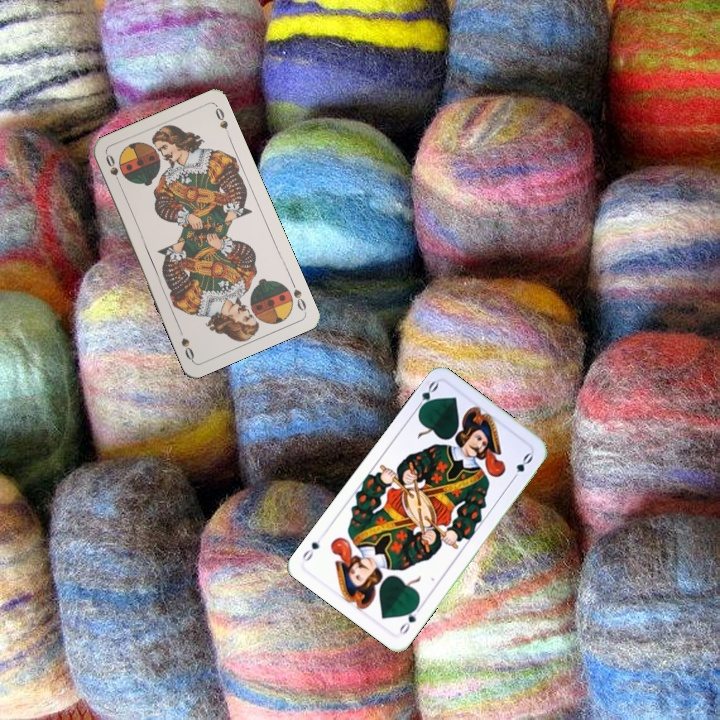GO: (411, 377, 441, 415), (395, 600, 425, 637)
SO: (102, 150, 124, 189), (287, 276, 309, 314)
